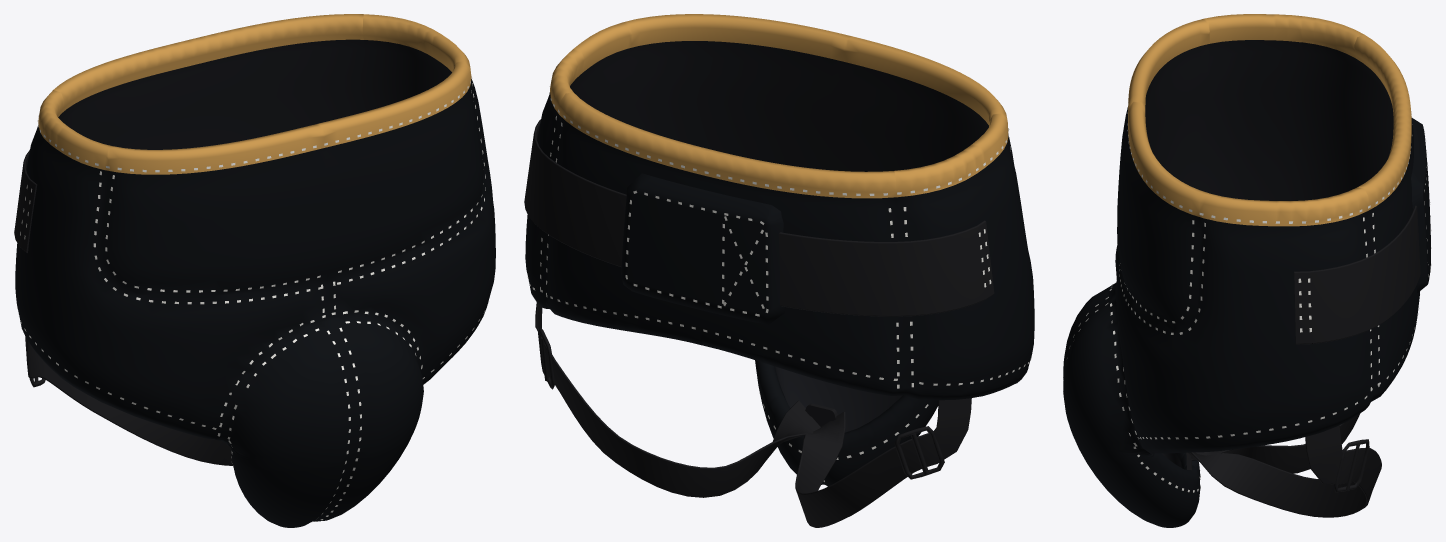
The model's file is groin-guard.glb.
3 renders of one model, left to right at view 1: azimuth 30°, elevation 25°; view 2: azimuth 150°, elevation 25°; view 3: azimuth 270°, elevation 25°, orthographic. The views are drawn at different scales.
Parts seen in each view (by area): view 1: GROIN_GUARD_LEATHER, GROIN_GUARD_LINING, GROIN_GUARD_BINDING, GROIN_GUARD_ELASTIC, GROIN_GUARD_STITCHING; view 2: GROIN_GUARD_LEATHER, GROIN_GUARD_LINING, GROIN_GUARD_ELASTIC, GROIN_GUARD_BINDING, GROIN_GUARD_STITCHING, GROIN_GUARD_BUCKLES; view 3: GROIN_GUARD_LEATHER, GROIN_GUARD_LINING, GROIN_GUARD_ELASTIC, GROIN_GUARD_BINDING, GROIN_GUARD_STITCHING, GROIN_GUARD_BUCKLES.
Boxes of the visible parts, x1,y1,x2,y2 form: GROIN_GUARD_LEATHER: [15, 78, 495, 527]; GROIN_GUARD_LINING: [58, 39, 451, 149]; GROIN_GUARD_BINDING: [38, 14, 471, 174]; GROIN_GUARD_ELASTIC: [14, 150, 232, 465]; GROIN_GUARD_STITCHING: [17, 76, 488, 521]; GROIN_GUARD_LEATHER: [525, 92, 1034, 486]; GROIN_GUARD_LINING: [570, 41, 988, 432]; GROIN_GUARD_ELASTIC: [524, 119, 994, 527]; GROIN_GUARD_BINDING: [550, 14, 1008, 198]; GROIN_GUARD_STITCHING: [527, 86, 1031, 481]; GROIN_GUARD_BUCKLES: [538, 328, 944, 479]; GROIN_GUARD_LEATHER: [1063, 107, 1430, 527]; GROIN_GUARD_LINING: [1145, 40, 1393, 467]; GROIN_GUARD_ELASTIC: [1188, 205, 1420, 517]; GROIN_GUARD_BINDING: [1128, 14, 1411, 226]; GROIN_GUARD_STITCHING: [1067, 109, 1431, 492]; GROIN_GUARD_BUCKLES: [1186, 439, 1369, 492].
Size of the model in its own units: 0.3365 by 0.3013 by 0.2414.
